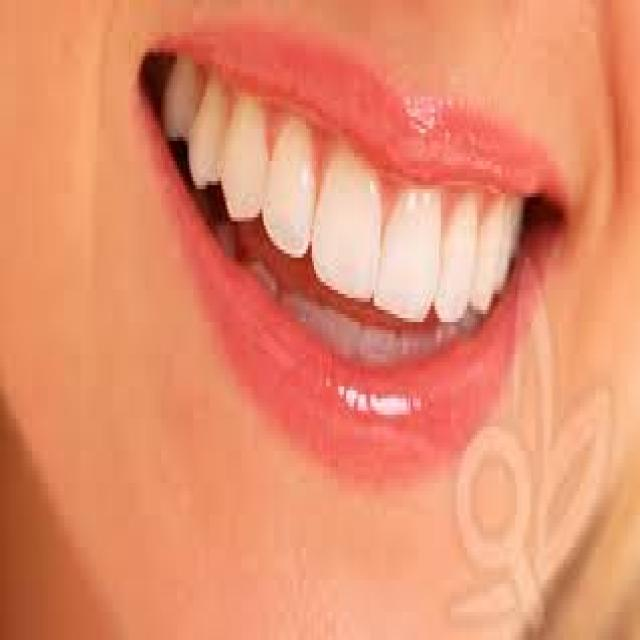tooth: (328, 149, 376, 282), (382, 185, 427, 314), (437, 185, 479, 310), (229, 97, 274, 197), (276, 112, 308, 234), (161, 40, 191, 117), (192, 81, 218, 161), (483, 197, 501, 302), (503, 217, 523, 278)
